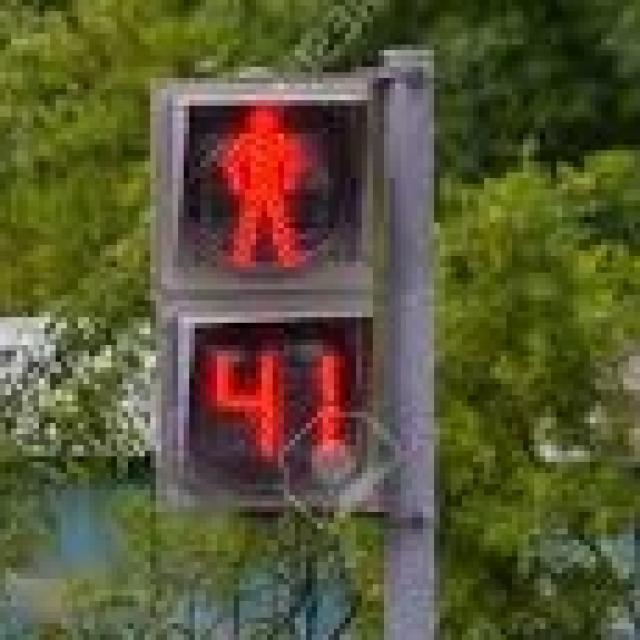red-crossing: (195, 88, 328, 272)
